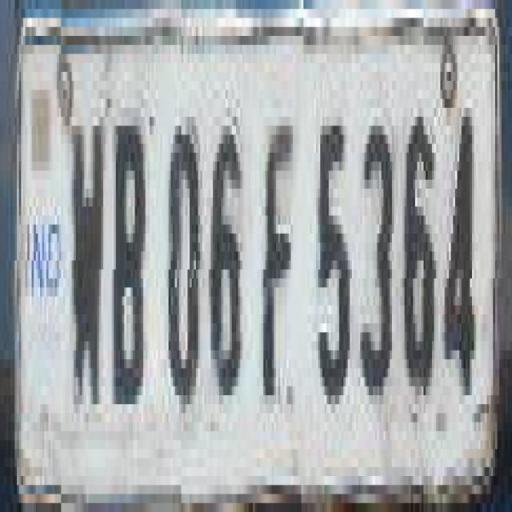number plate: (4, 0, 486, 512)
